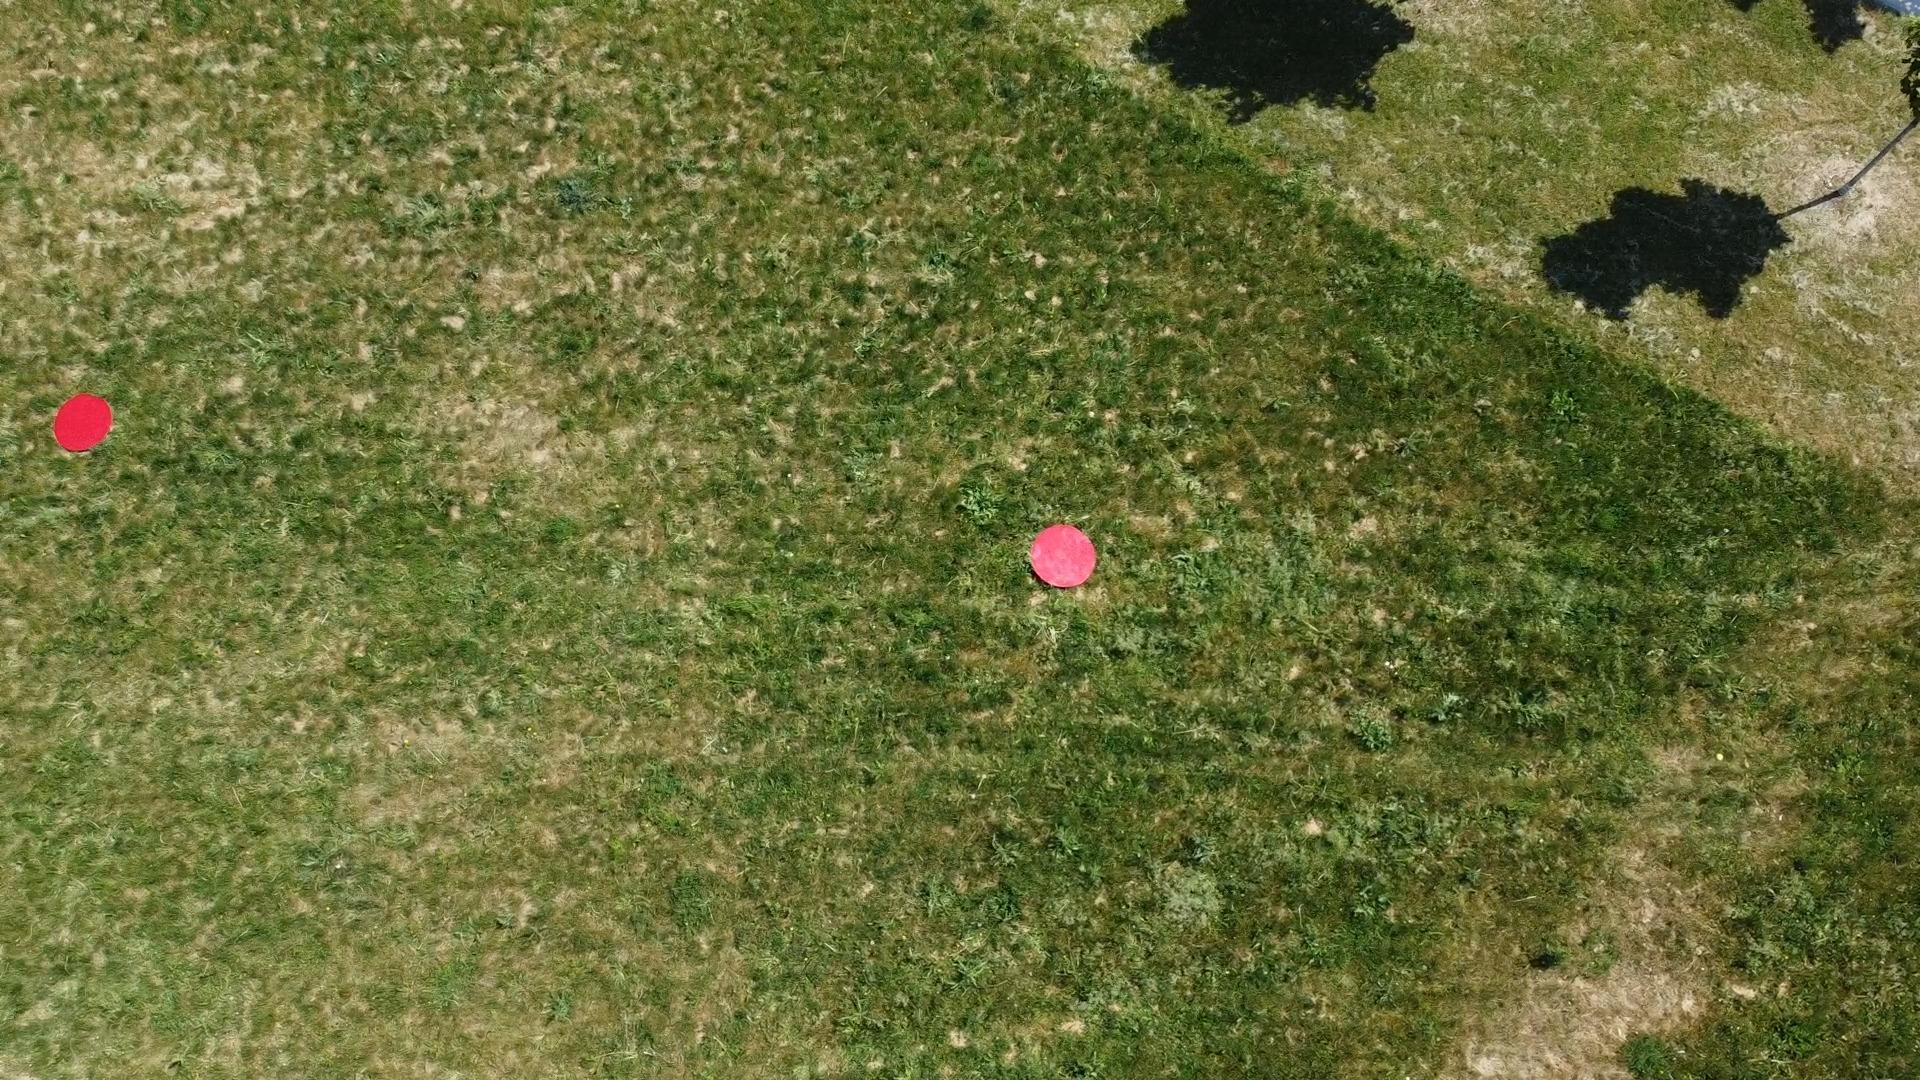Red: (1026, 522, 1101, 591), (51, 390, 117, 455)
